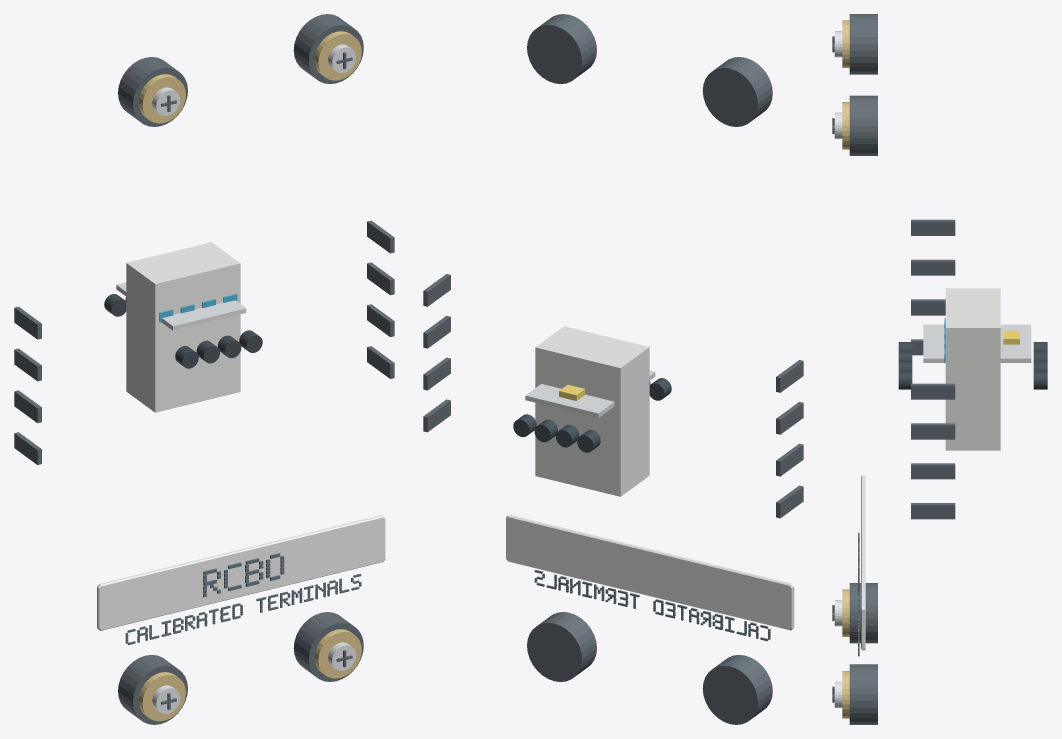
Rendered from differentialBreaker.glb.
3 renders of one model, left to right at view 1: azimuth 30°, elevation 25°; view 2: azimuth 150°, elevation 25°; view 3: azimuth 270°, elevation 25°, orthographic. The views are drawn at different scales.
Parts seen in each view (by area): view 1: differentialBreaker-detailed; view 2: differentialBreaker-detailed; view 3: differentialBreaker-detailed.
Part boxes in pixels (x1,y1,x2,y2): differentialBreaker-detailed: [14, 14, 394, 724]; differentialBreaker-detailed: [423, 14, 803, 724]; differentialBreaker-detailed: [832, 14, 1047, 724].
Size of the model in its own units: 2.03 by 3.56 by 1.11.
